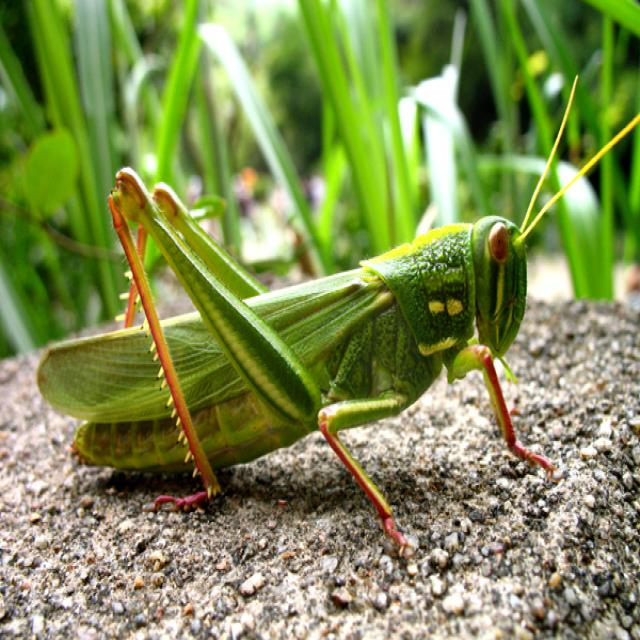ZhaMeng: (40, 146, 572, 511)
